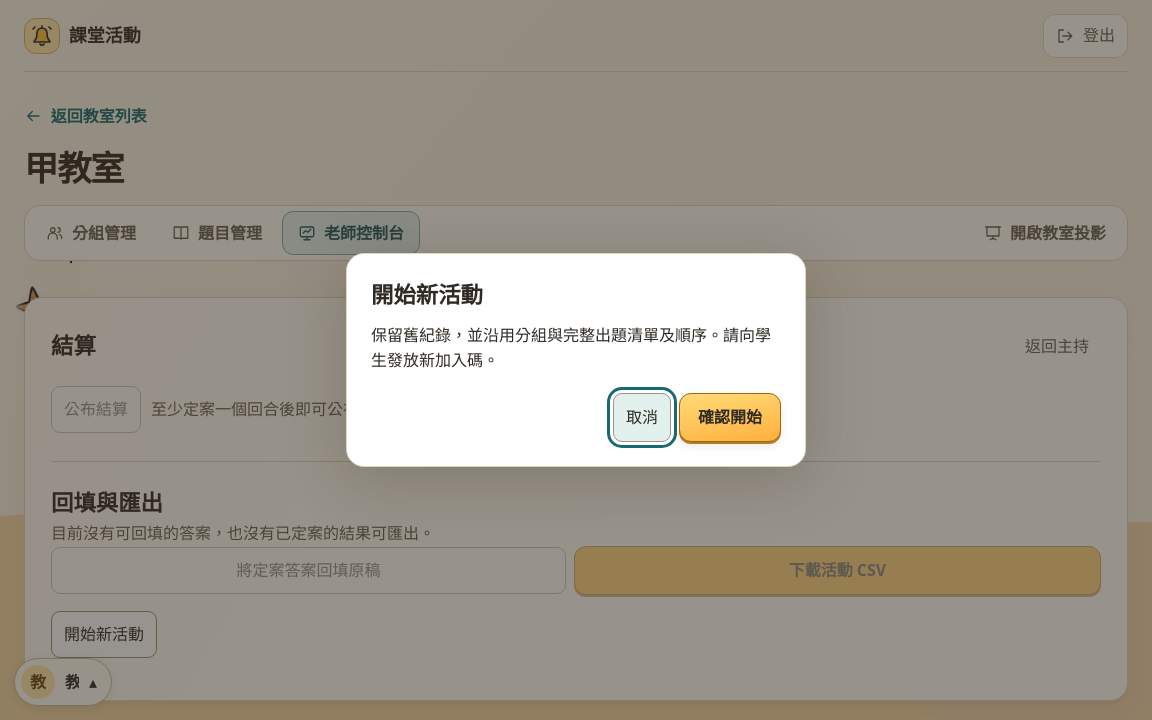
Test: 結算取消確認保留本場，確認成功返回新場主持
Earlier steps of the test are not shown.
Step 1. Click the button "確認開始" → (730, 417), box [679,393,781,442]
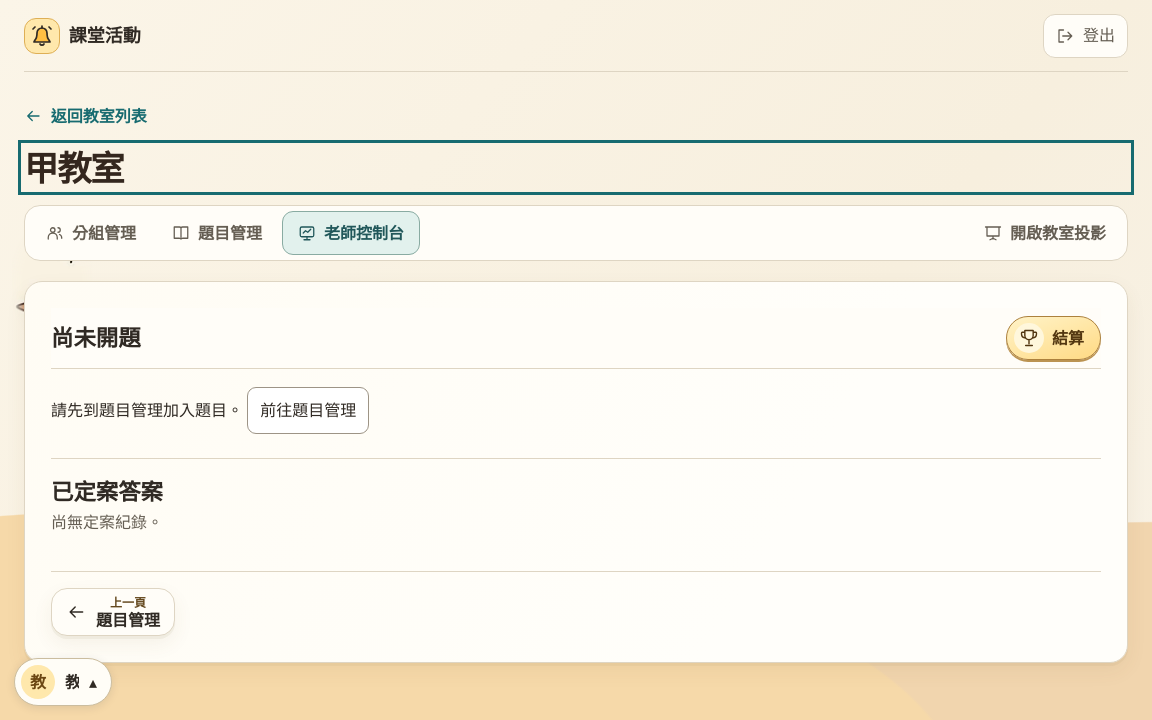
Expected: the text "結算" is shown, [1006,316,1101,360]
Expected: the text "回填與匯出" is gone
